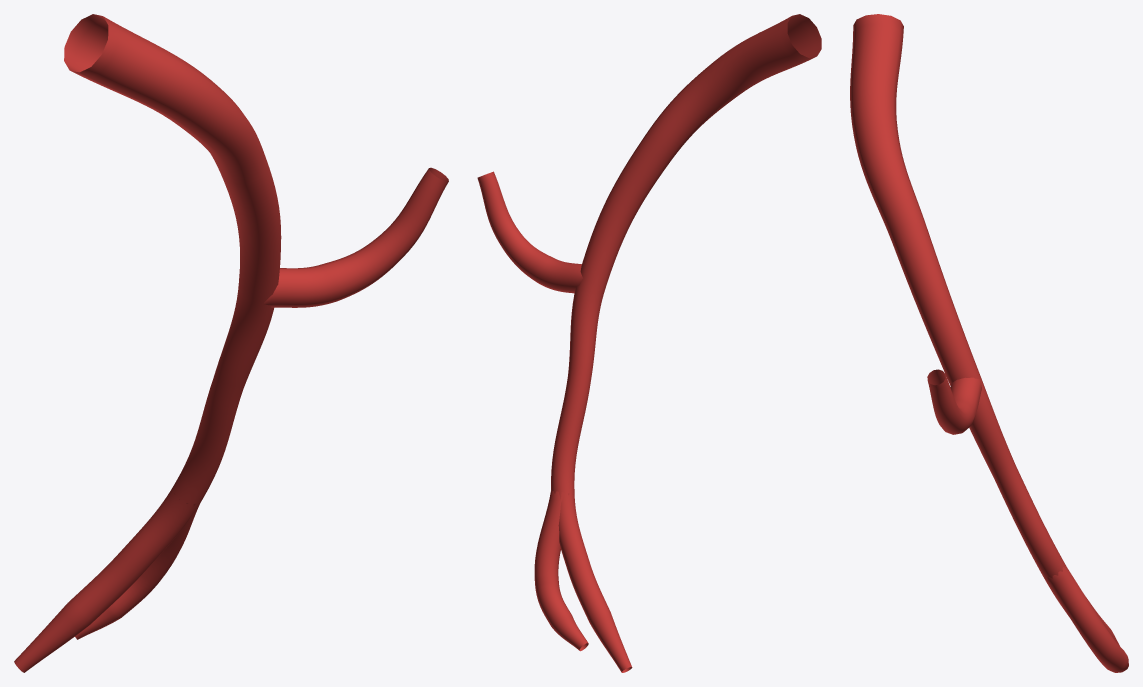
3 renders of one model, left to right at view 1: azimuth 30°, elevation 25°; view 2: azimuth 150°, elevation 25°; view 3: azimuth 270°, elevation 25°, orthographic. The views are drawn at different scales.
Visible parts, largest first — view 1: 左肺上舌段动脉; view 2: 左肺上舌段动脉; view 3: 左肺上舌段动脉.
Part boxes in pixels (<box>): 左肺上舌段动脉: <box>14,14,448,672</box>; 左肺上舌段动脉: <box>477,14,821,672</box>; 左肺上舌段动脉: <box>850,14,1128,672</box>.
Bounding box in the file's own units: 0.0882 × 0.1594 × 0.0648.
